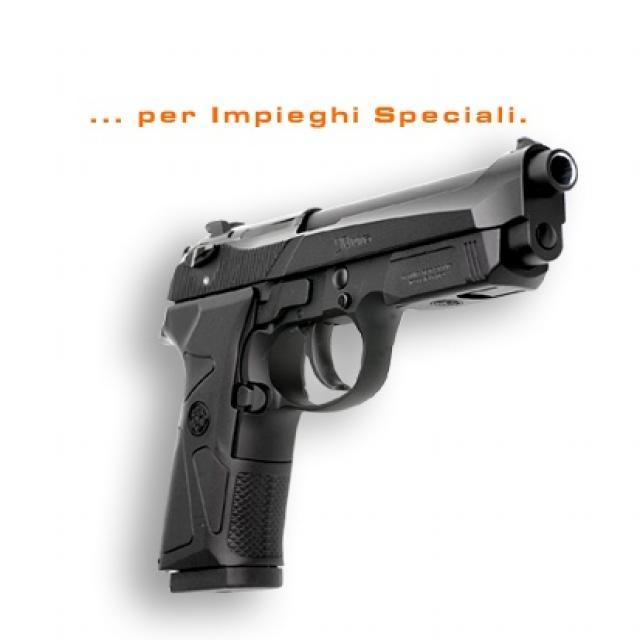gun: (155, 136, 581, 594)
